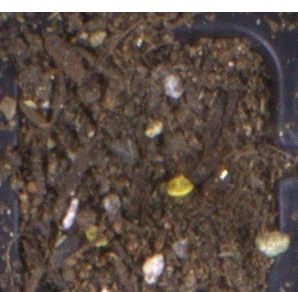chilli seed: (166, 174, 194, 197)
